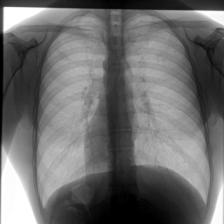tuberculosis: (33, 8, 213, 224)
